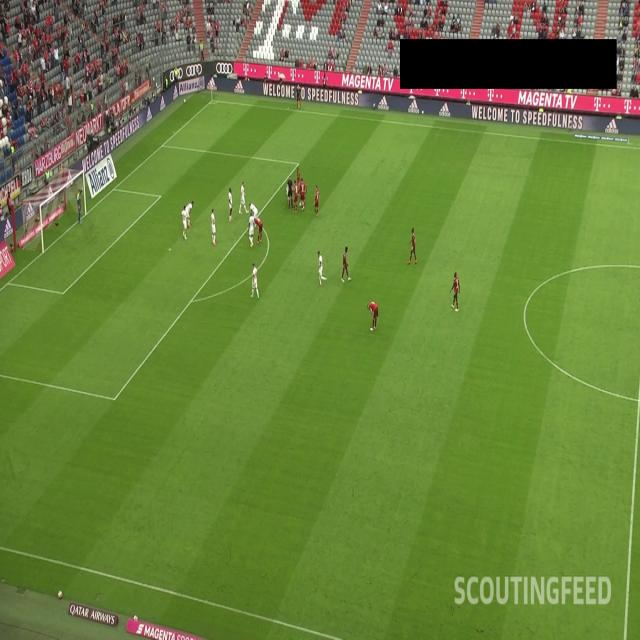ball: (298, 199, 302, 209)
player: (365, 296, 381, 332), (450, 270, 461, 312), (408, 224, 418, 266), (316, 245, 325, 285), (341, 243, 350, 283), (184, 196, 194, 228), (240, 178, 248, 215), (76, 185, 84, 222), (248, 210, 255, 249), (227, 183, 234, 220), (248, 199, 258, 224), (212, 206, 218, 247), (313, 183, 320, 216), (255, 216, 263, 244), (300, 175, 306, 210), (293, 179, 299, 214), (252, 258, 257, 298), (296, 166, 300, 197), (182, 207, 186, 238)
